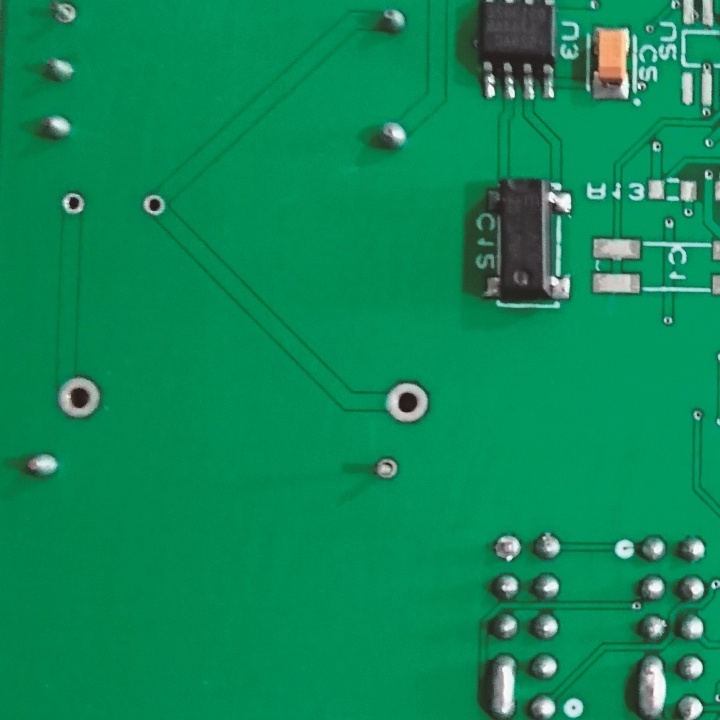F: (380, 380, 435, 429), (53, 372, 104, 423), (490, 530, 524, 563), (47, 1, 83, 30), (370, 454, 401, 482), (59, 189, 88, 217), (139, 192, 168, 220)
P: (630, 646, 670, 720), (484, 650, 520, 720)
